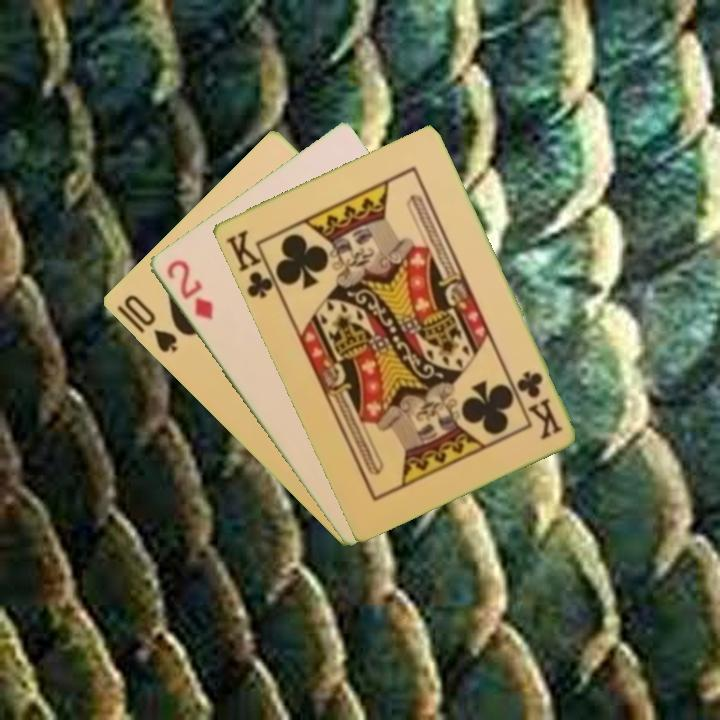10s: (119, 291, 180, 356)
2d: (162, 256, 216, 323)
Kc: (221, 226, 282, 301), (512, 367, 566, 443)
